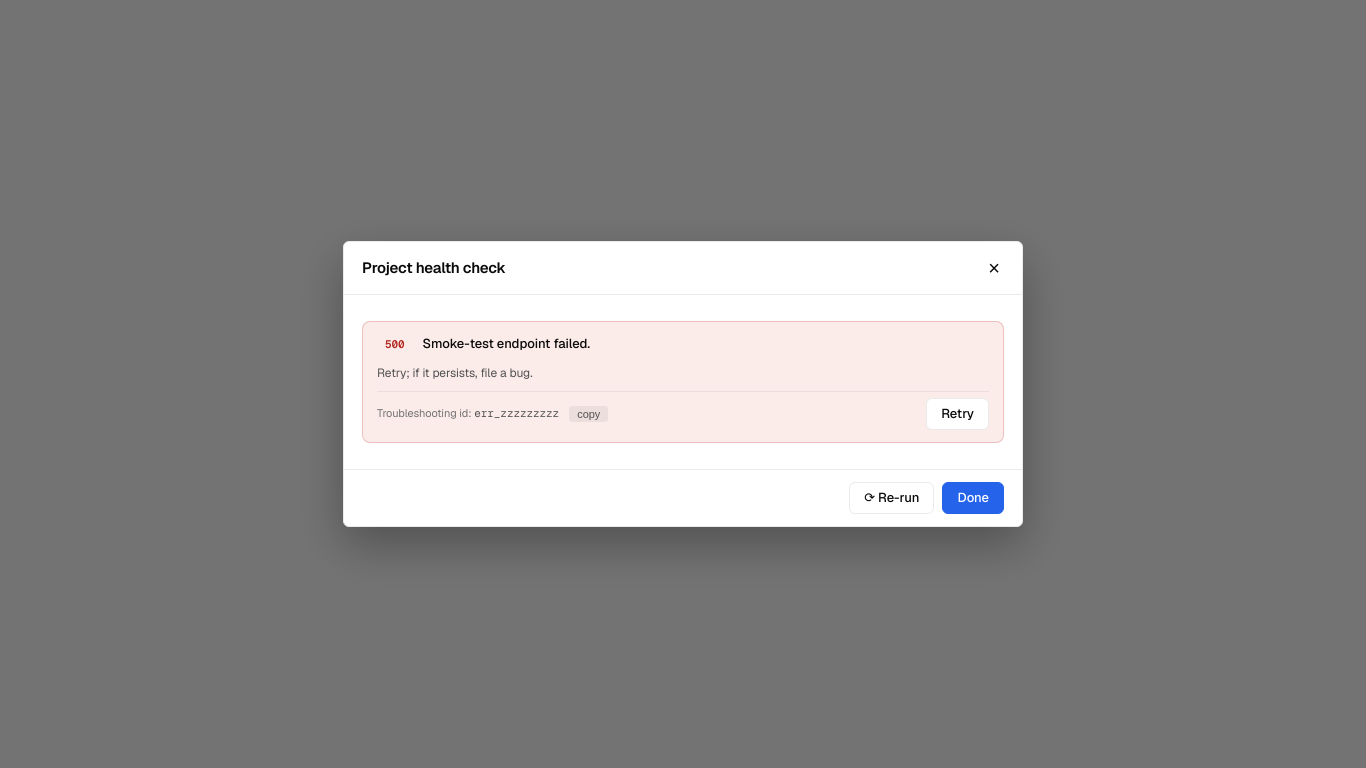
Test case: HealthCheckModal › shows the load-error ErrorPanel + Retry when the POST itself fails
Expected: the message with test id "health-check-modal-load-error" is shown, [362,321,1004,443]
Expected: the element with test id "health-check-modal-load-error-trace-id" shows "err_zzzzzzzzz", [474,406,559,420]
Note: Click Retry → second POST runs + summary appears.
Click the button with test id "health-check-modal-retry".
click(958, 414)  # box [926,398,989,430]
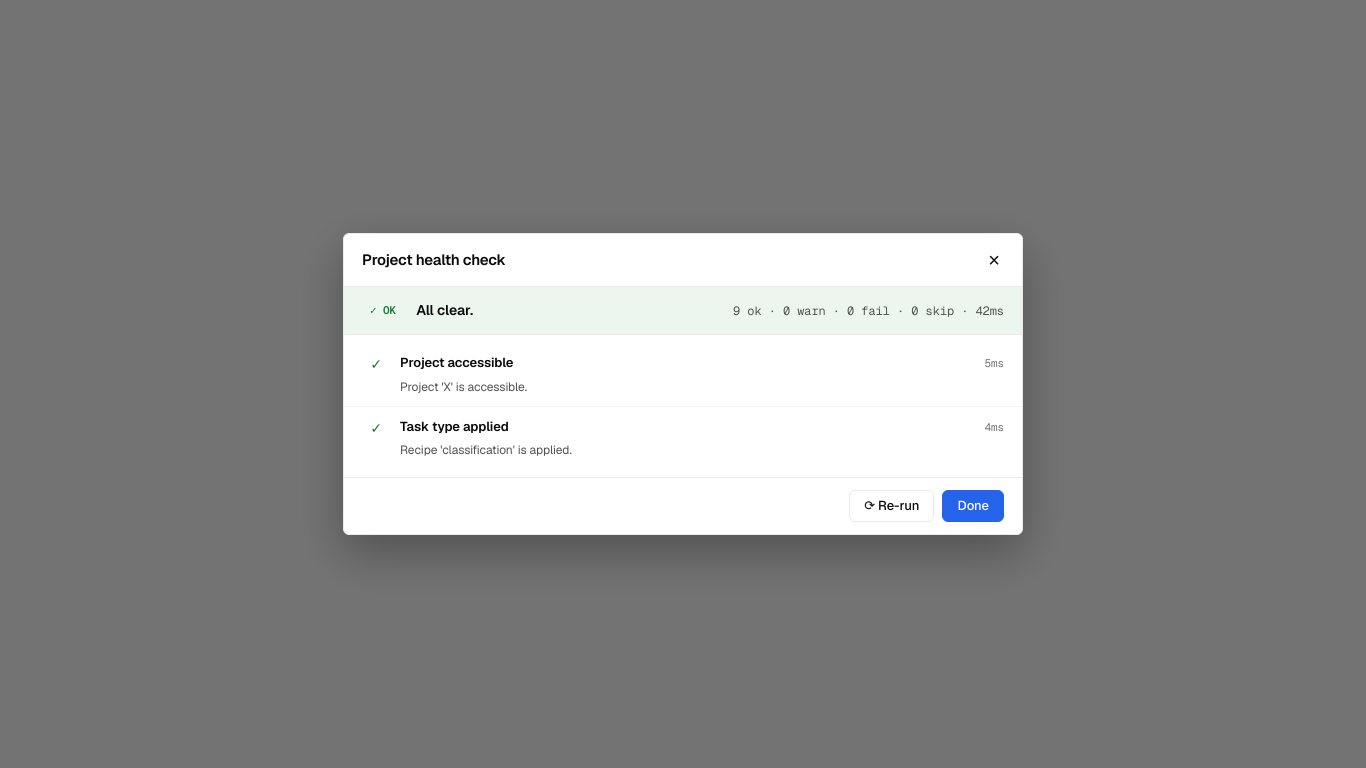
Expected: the element with test id "health-check-modal-summary" is shown, [344,287,1022,335]
